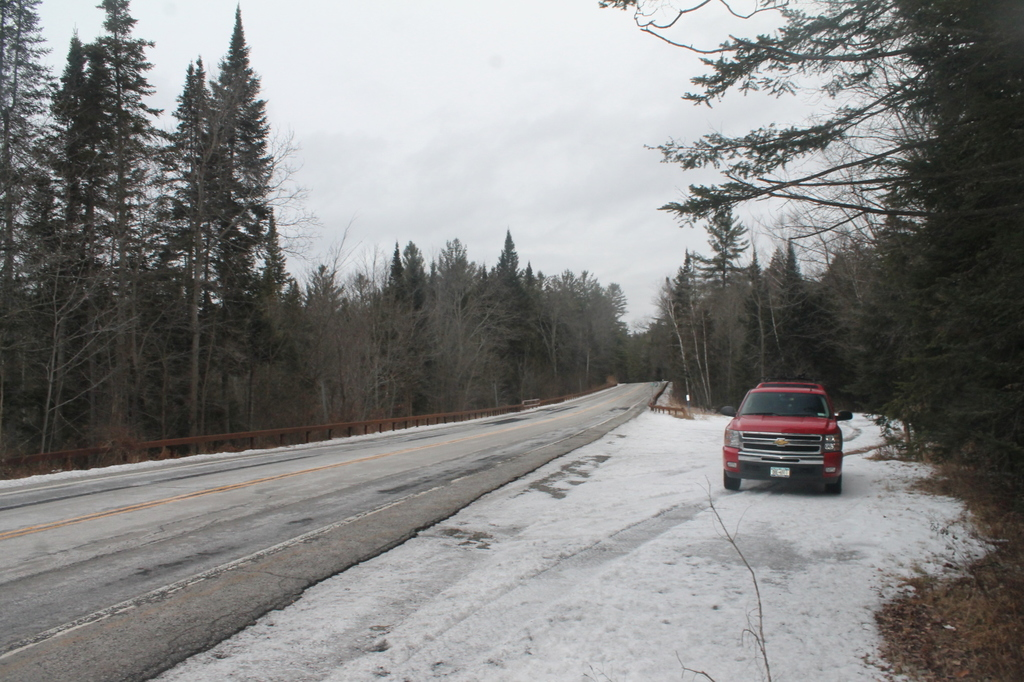Car: (721, 377, 857, 503)
